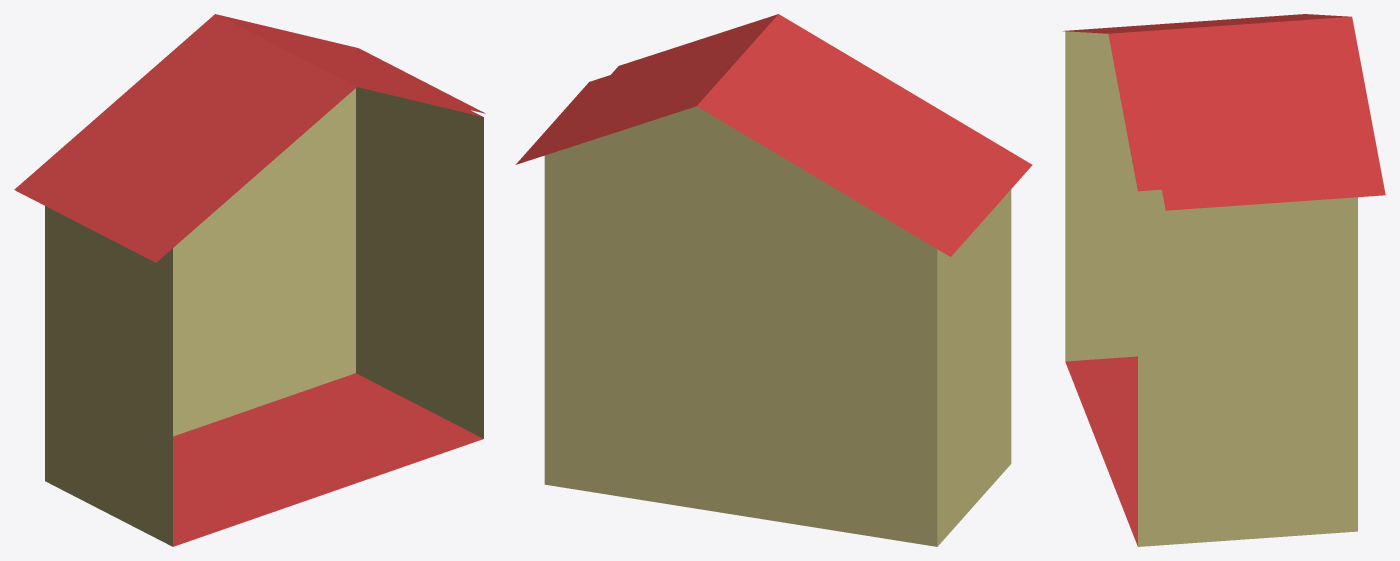
The picture shows the model from 3 angles, left to right: view 1: azimuth 30°, elevation 25°; view 2: azimuth 150°, elevation 25°; view 3: azimuth 270°, elevation 25°; orthographic projection. The views are drawn at different scales.
Bounding box in the file's own units: 10.8 × 6.7 × 9.97.
